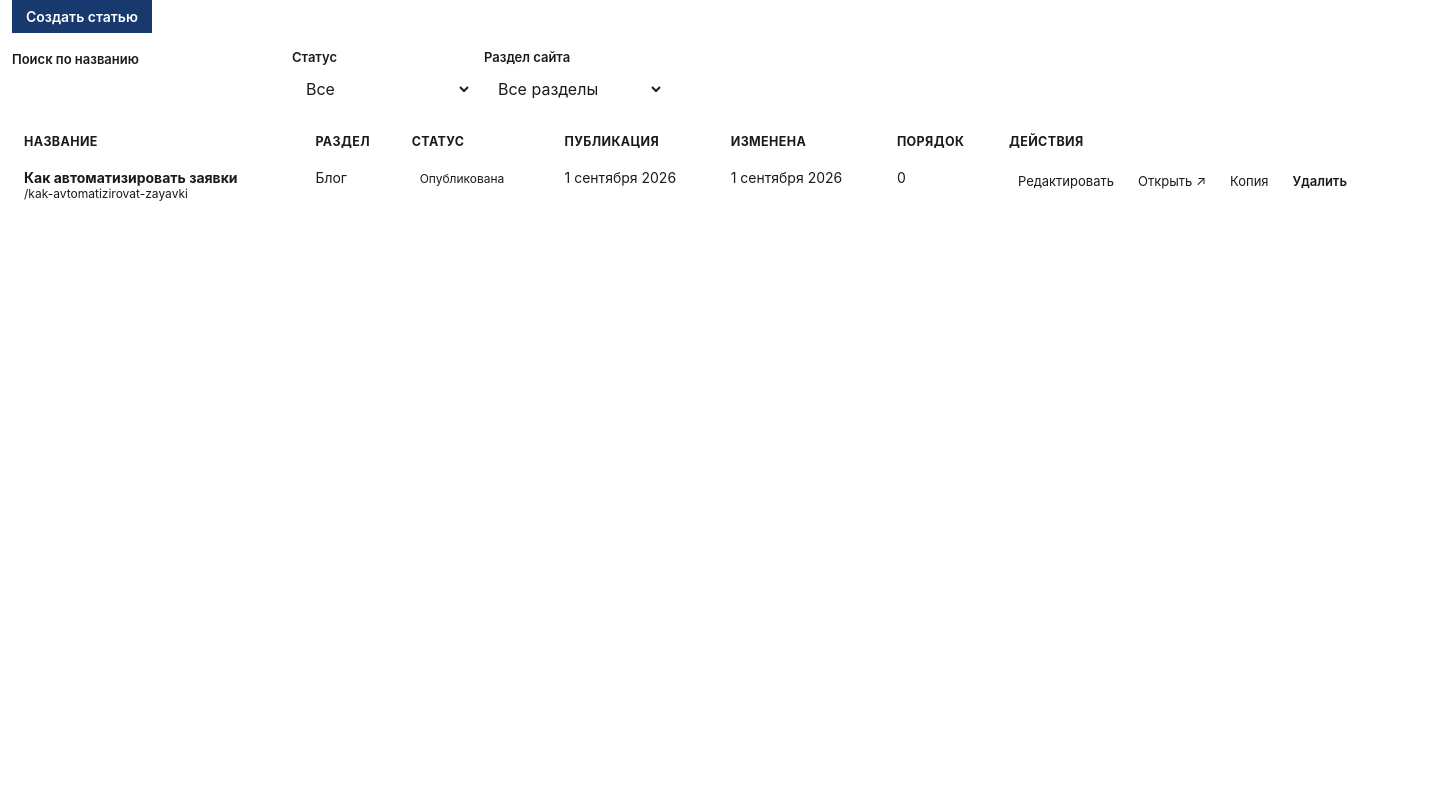
Test case: выбор цели: что предлагается человеку › связь на ставший недоступным материал не исчезает молча
This screenshot has width=1452, height=794.
Click the button "Редактировать" at (1066, 181), box [1009, 169, 1123, 193]
(page scrolled)
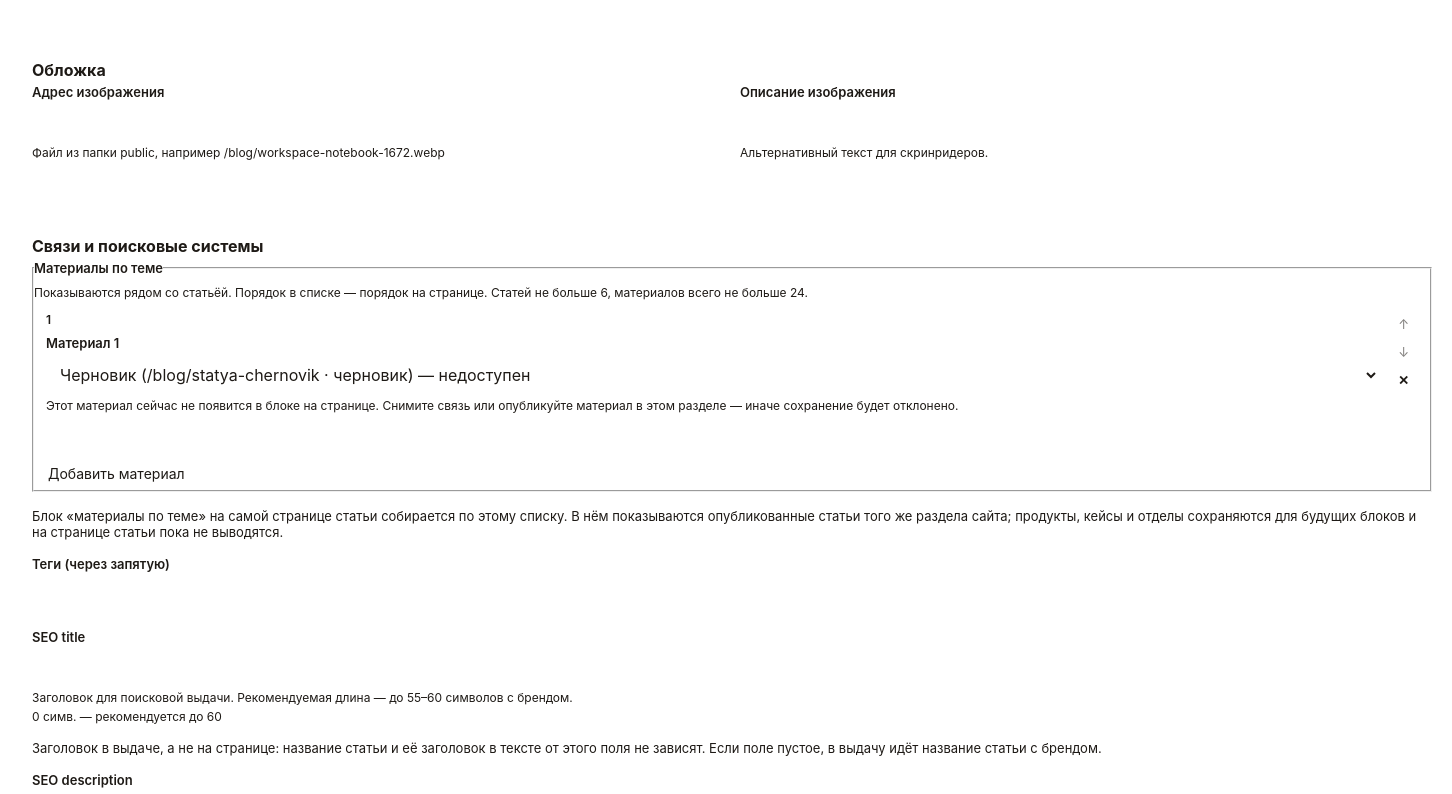
Result: the text "Этот материал сейчас не появится" is shown at [46, 398, 958, 413]
